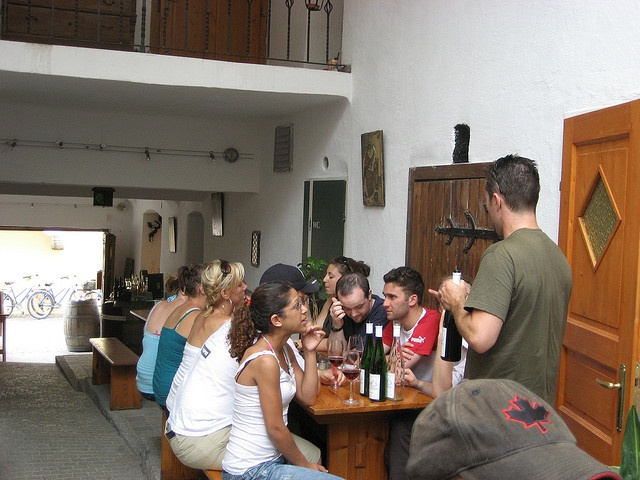non-vehicle: (29, 274, 80, 318), (3, 274, 40, 316)
